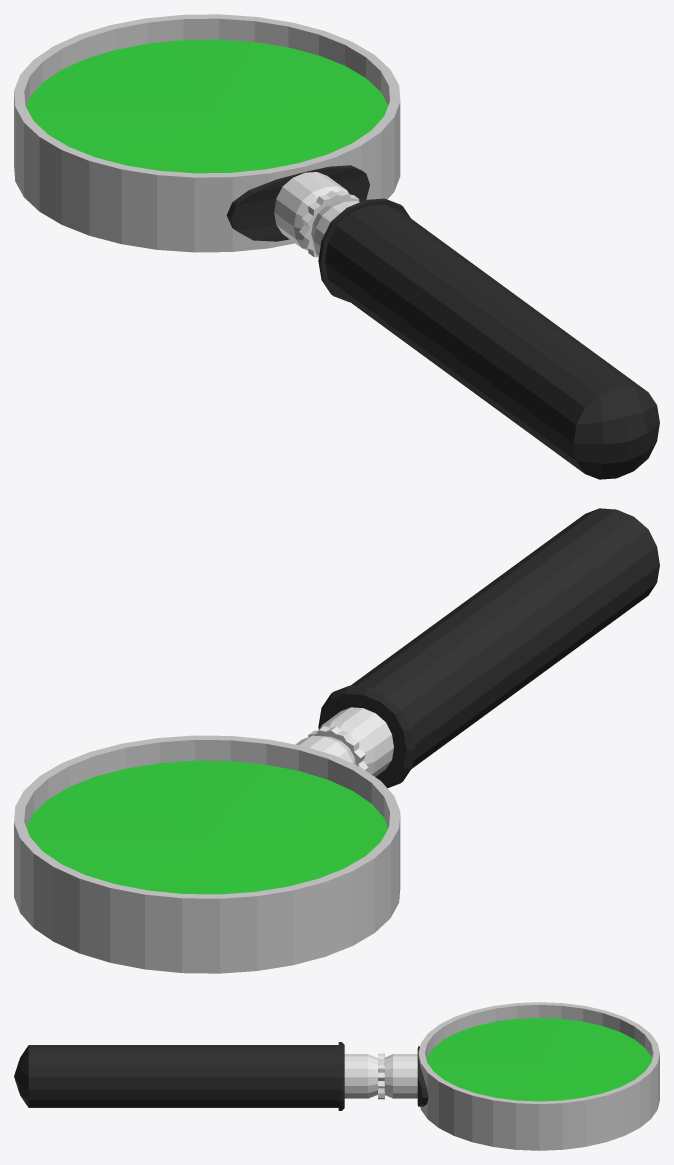
The model's file is Loupe.fbx.
The picture shows the model from 3 angles, top to bottom: view 1: azimuth 30°, elevation 25°; view 2: azimuth 150°, elevation 25°; view 3: azimuth 270°, elevation 25°; orthographic projection. The views are drawn at different scales.
Visible parts, largest first — view 1: Cylinder.001, Cylinder.000; view 2: Cylinder.001, Cylinder.000; view 3: Cylinder.001, Cylinder.000.
Part boxes in pixels (bbox=[...]): Cylinder.001: bbox=[14, 14, 659, 479]; Cylinder.000: bbox=[26, 39, 388, 173]; Cylinder.001: bbox=[14, 508, 659, 973]; Cylinder.000: bbox=[26, 760, 388, 894]; Cylinder.001: bbox=[14, 1002, 659, 1150]; Cylinder.000: bbox=[426, 1018, 651, 1101].
Bounding box in the file's own units: 273 × 77.36 × 732.
